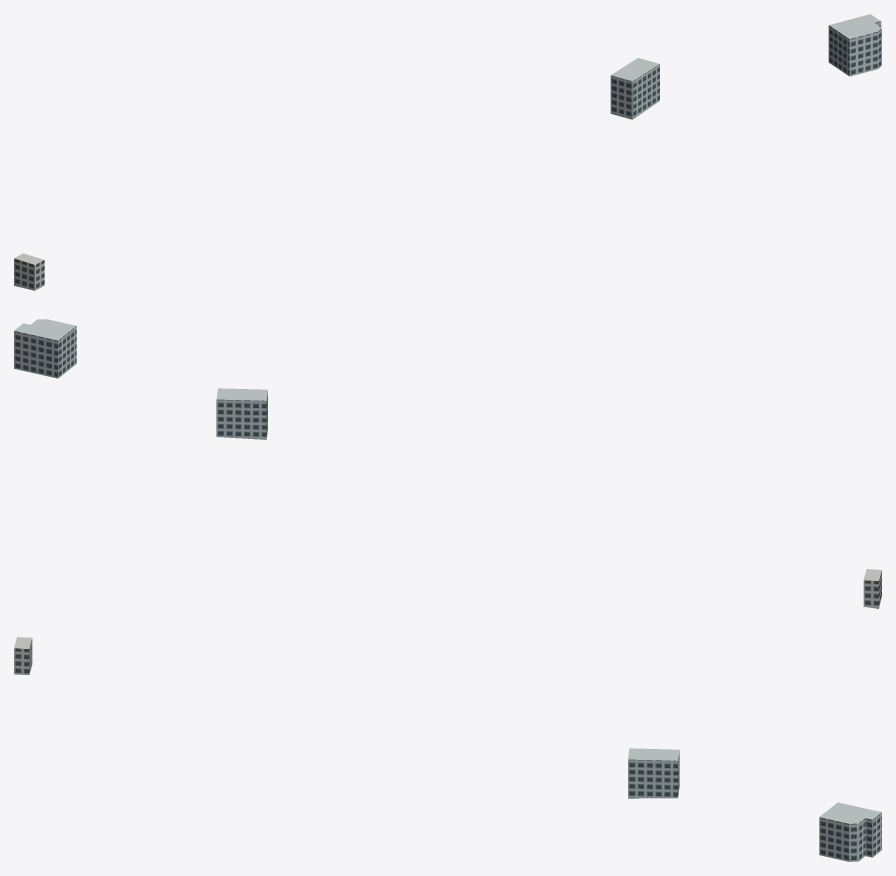
File: city_-2_5.glb
3 renders of one model, top to bottom at view 1: azimuth 30°, elevation 25°; view 2: azimuth 150°, elevation 25°; view 3: azimuth 330°, elevation 25°, orthographic.
Bounding box in the file's own units: 409 × 29.41 × 30.59.
Materials: 2 (2 with a texture image).
